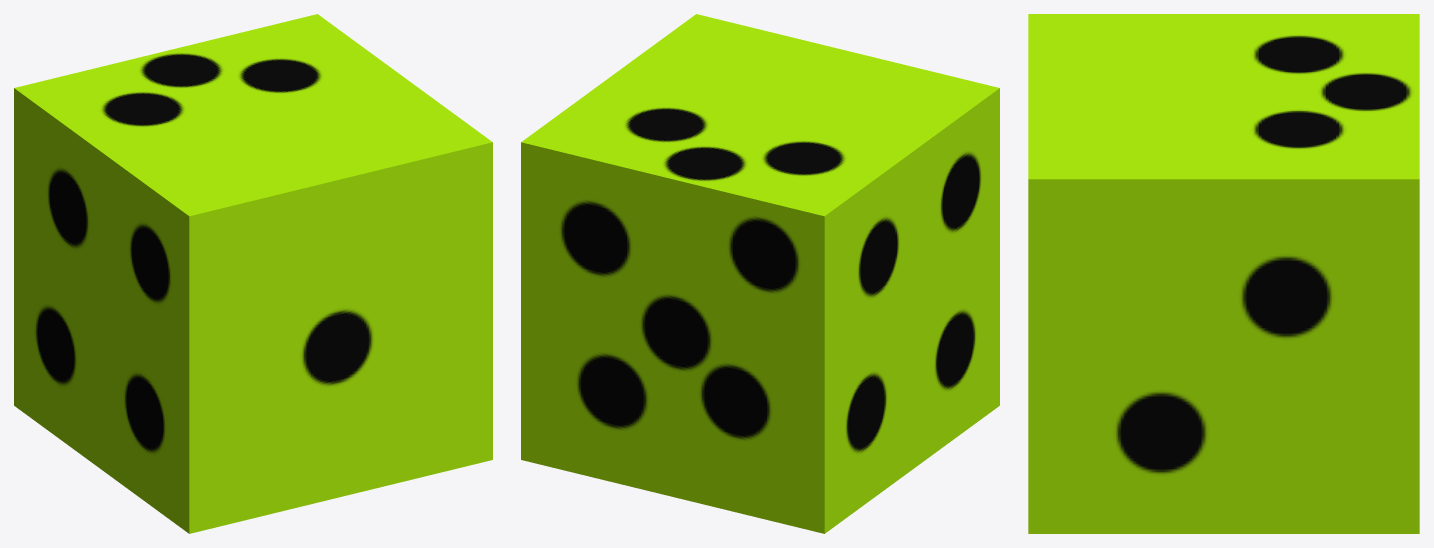
The model's file is dice.fbx.
3 renders of one model, left to right at view 1: azimuth 30°, elevation 25°; view 2: azimuth 150°, elevation 25°; view 3: azimuth 270°, elevation 25°, orthographic. The views are drawn at different scales.
Visible parts, largest first — view 1: pCube3; view 2: pCube3; view 3: pCube3.
Boxes of the visible parts, left/top/right/bottom form: pCube3: left=14, top=14, right=492, bottom=533; pCube3: left=521, top=14, right=999, bottom=533; pCube3: left=1028, top=14, right=1419, bottom=533.
Size of the model in its own units: 1 by 1 by 1.
1 material, 1 textured.
